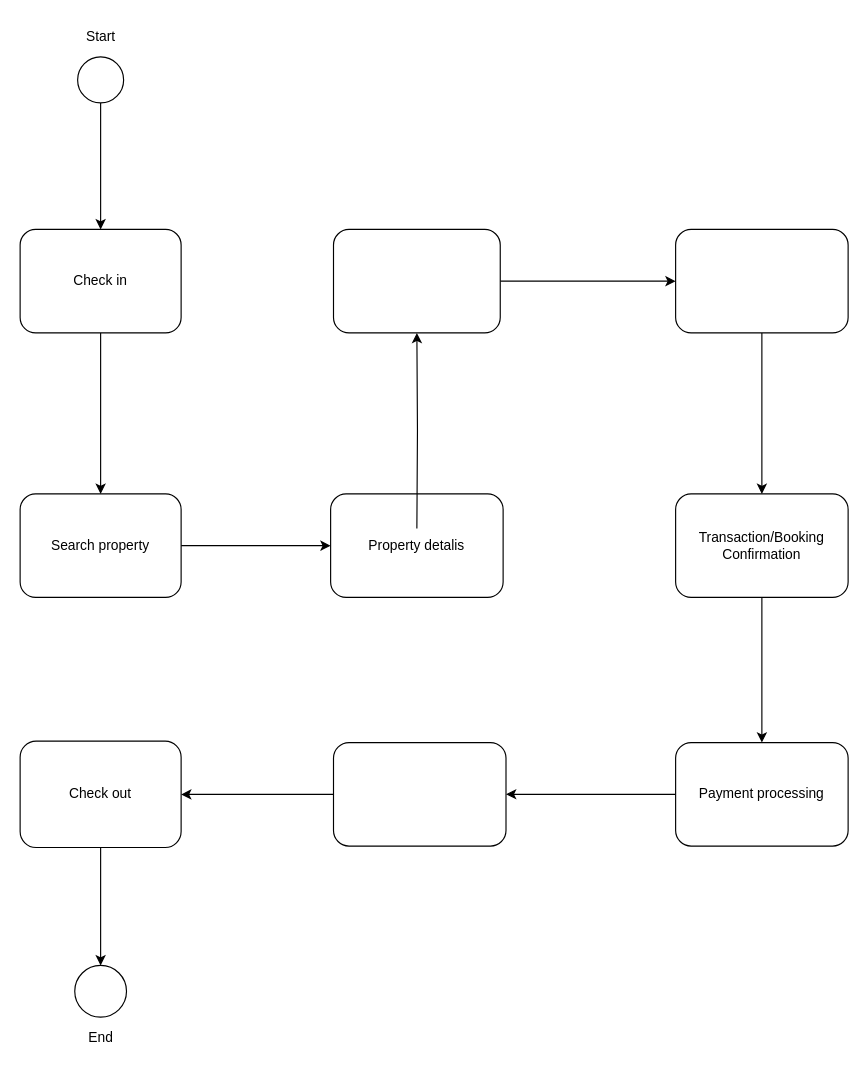
The diagram is 868 pixels wide and 1074 high, and some of its shapes have lost their labels. Here are the shapes that lost their labels. From the top down, the centre of each, then its label:
the point at 416,280: User authentication
the point at 761,280: Offer letter
the point at 419,793: Feedback
